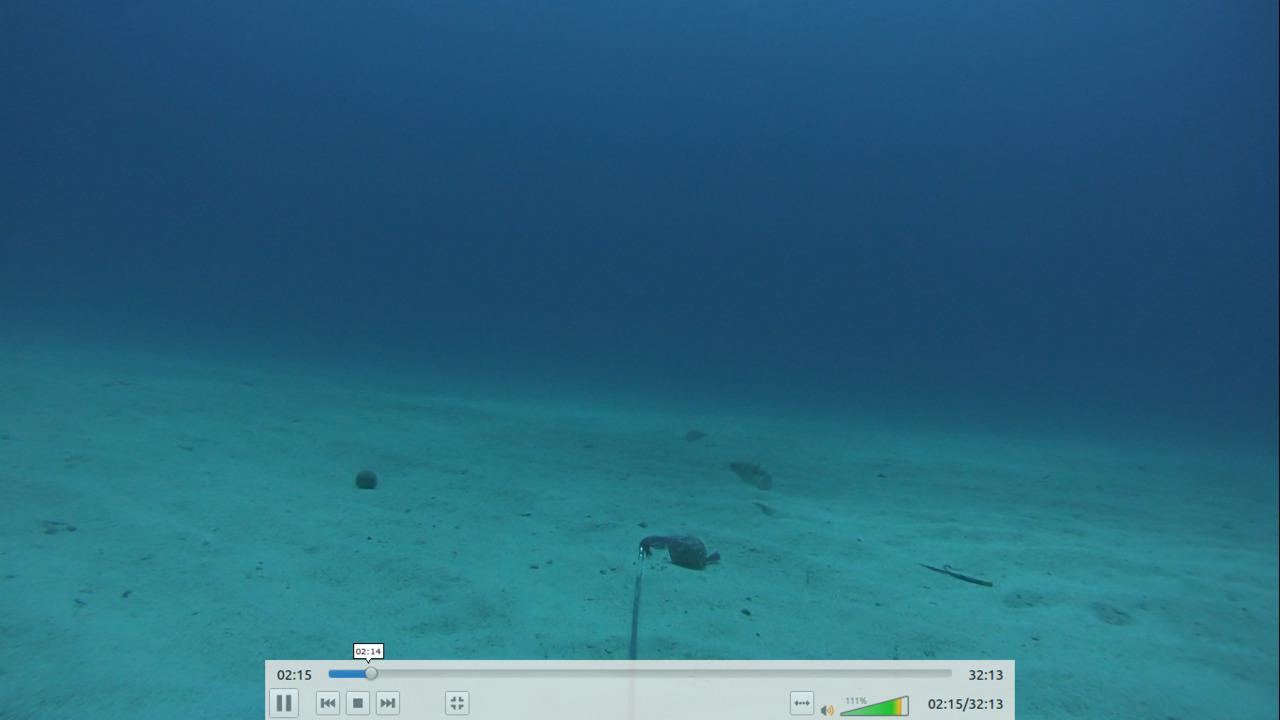raor: (717, 453, 777, 494)
